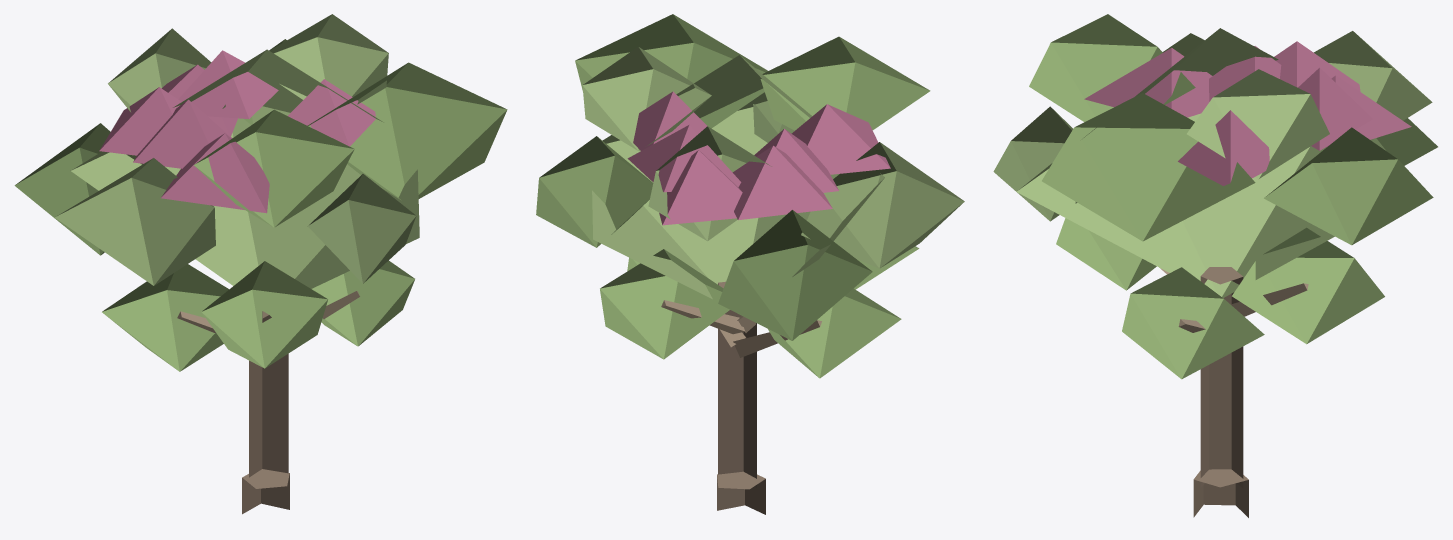
The model's file is tree.cold.willow__bloom.glb.
3 renders of one model, left to right at view 1: azimuth 30°, elevation 25°; view 2: azimuth 150°, elevation 25°; view 3: azimuth 270°, elevation 25°, orthographic. The views are drawn at different scales.
Parts seen in each view (by area): view 1: tree.cold.willow__bloom; view 2: tree.cold.willow__bloom; view 3: tree.cold.willow__bloom.
Part boxes in pixels (x1,y1,x2,y2): tree.cold.willow__bloom: [14, 14, 507, 514]; tree.cold.willow__bloom: [536, 14, 964, 514]; tree.cold.willow__bloom: [993, 14, 1437, 517].
Bounding box in the file's own units: 4.58 × 5.11 × 4.22.
